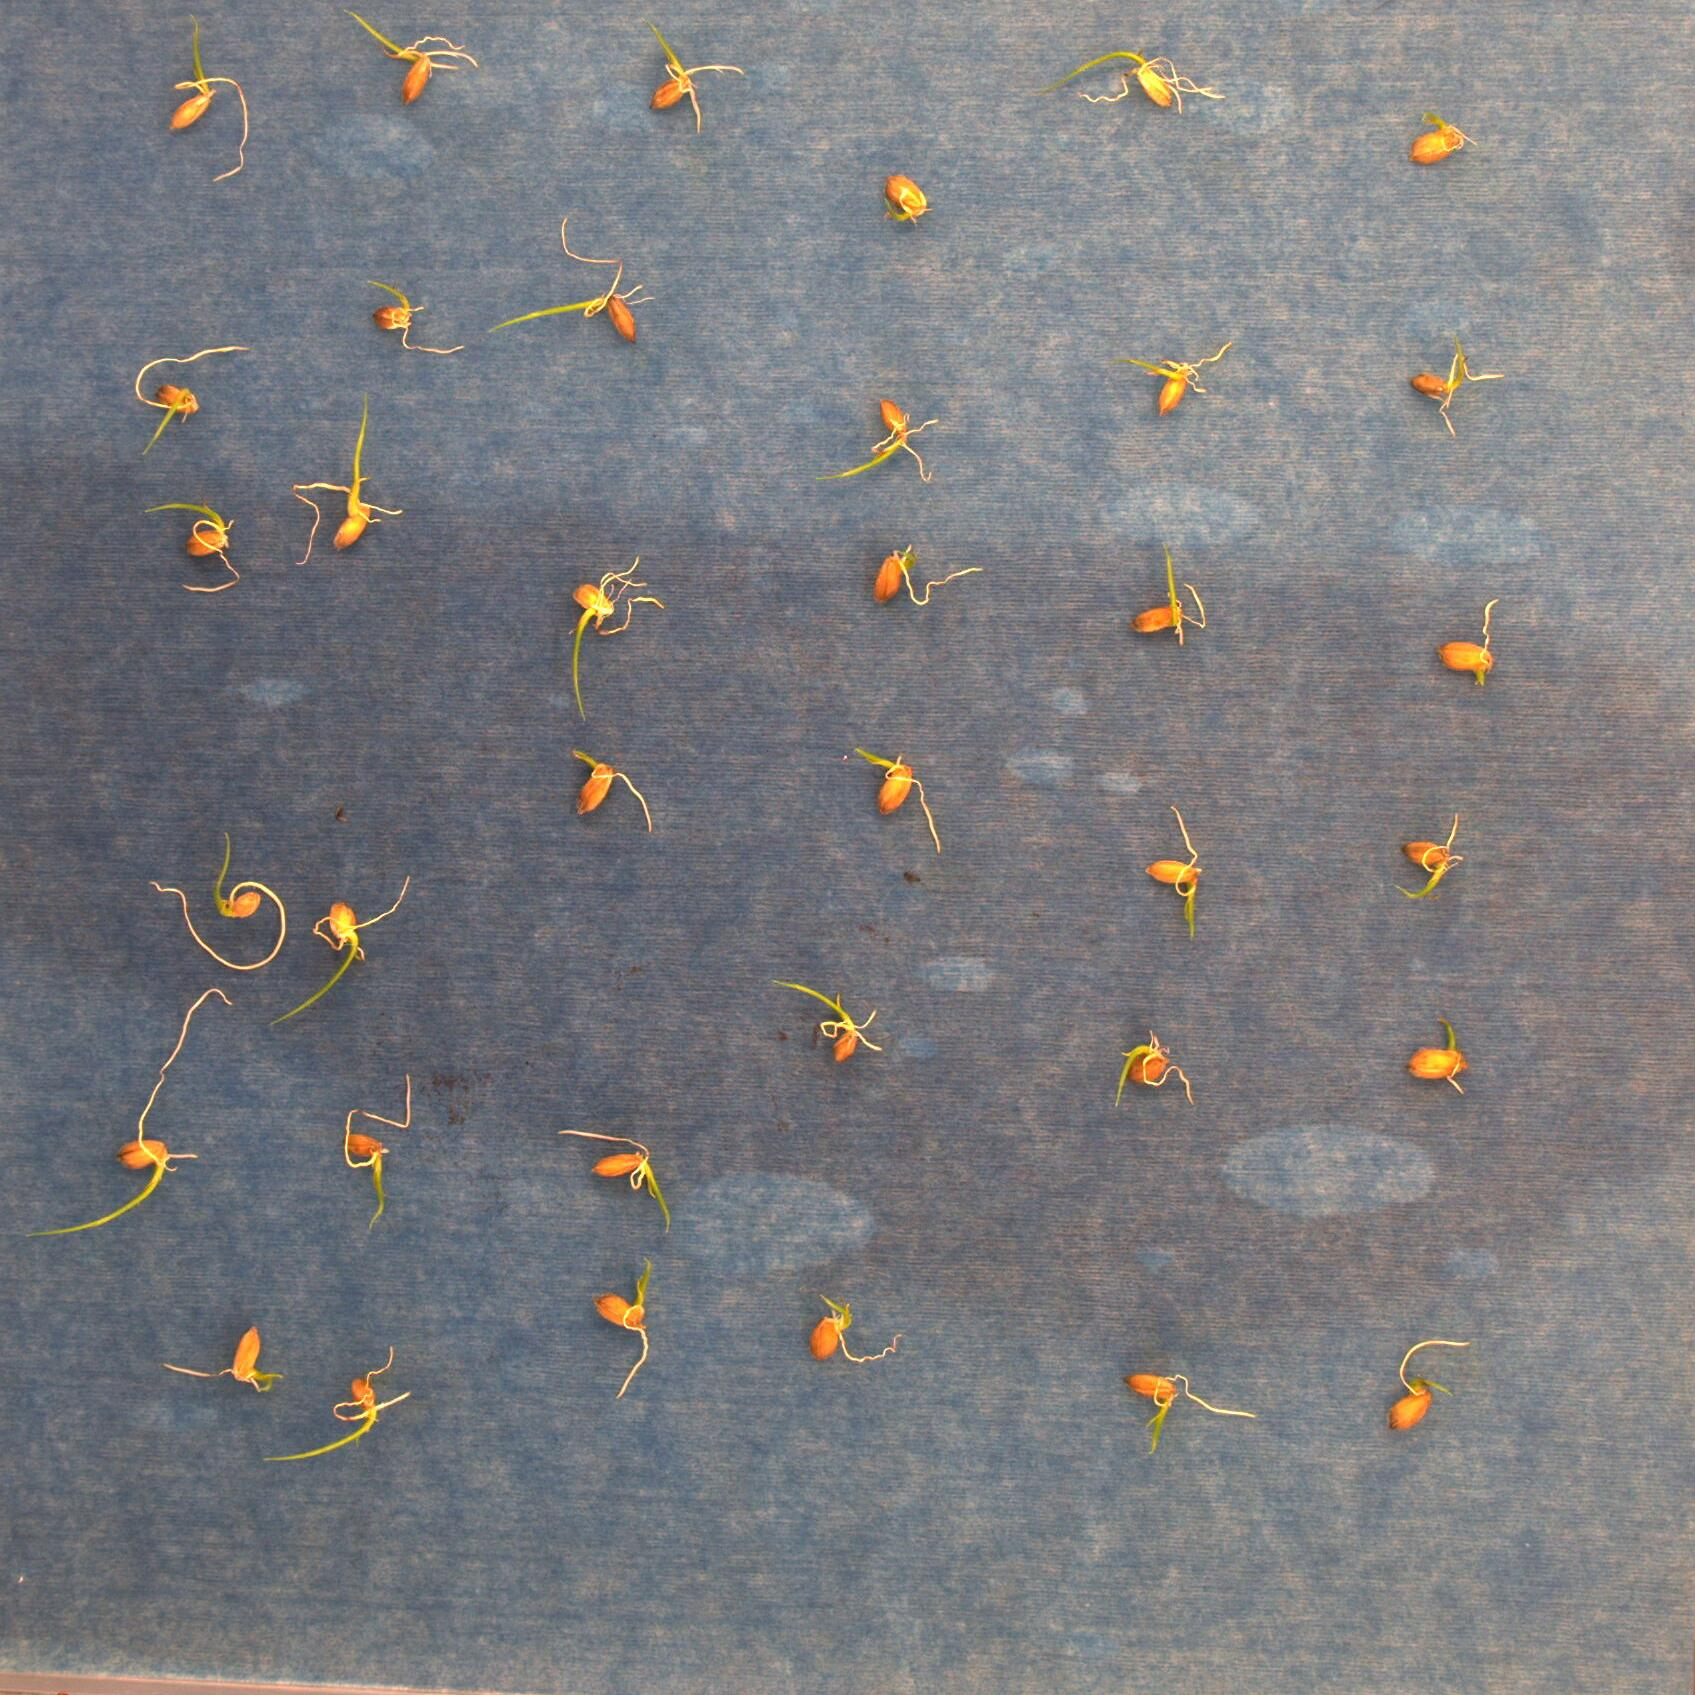not sprout: (1433, 596, 1506, 688)
sprout: (22, 986, 234, 1243), (265, 872, 413, 1029), (487, 216, 653, 345), (289, 383, 405, 567), (149, 826, 289, 972), (262, 1344, 411, 1464), (570, 553, 666, 723), (169, 12, 251, 183), (133, 343, 255, 458), (345, 11, 480, 102), (1045, 47, 1225, 115), (557, 1127, 674, 1232), (1121, 1367, 1257, 1456), (343, 1073, 416, 1232), (816, 393, 941, 483), (647, 22, 745, 133), (141, 495, 244, 594), (852, 745, 942, 855), (1411, 337, 1509, 438), (591, 1256, 657, 1403), (771, 976, 882, 1062), (160, 1321, 284, 1395), (1127, 335, 1239, 418), (1386, 1338, 1476, 1434), (1132, 542, 1206, 643), (570, 745, 653, 834), (872, 542, 986, 607), (1146, 802, 1198, 941), (366, 279, 464, 354), (807, 1293, 903, 1364), (1391, 809, 1461, 903), (1114, 1026, 1194, 1107), (1405, 1015, 1475, 1094), (1409, 109, 1478, 165), (882, 171, 931, 227)
